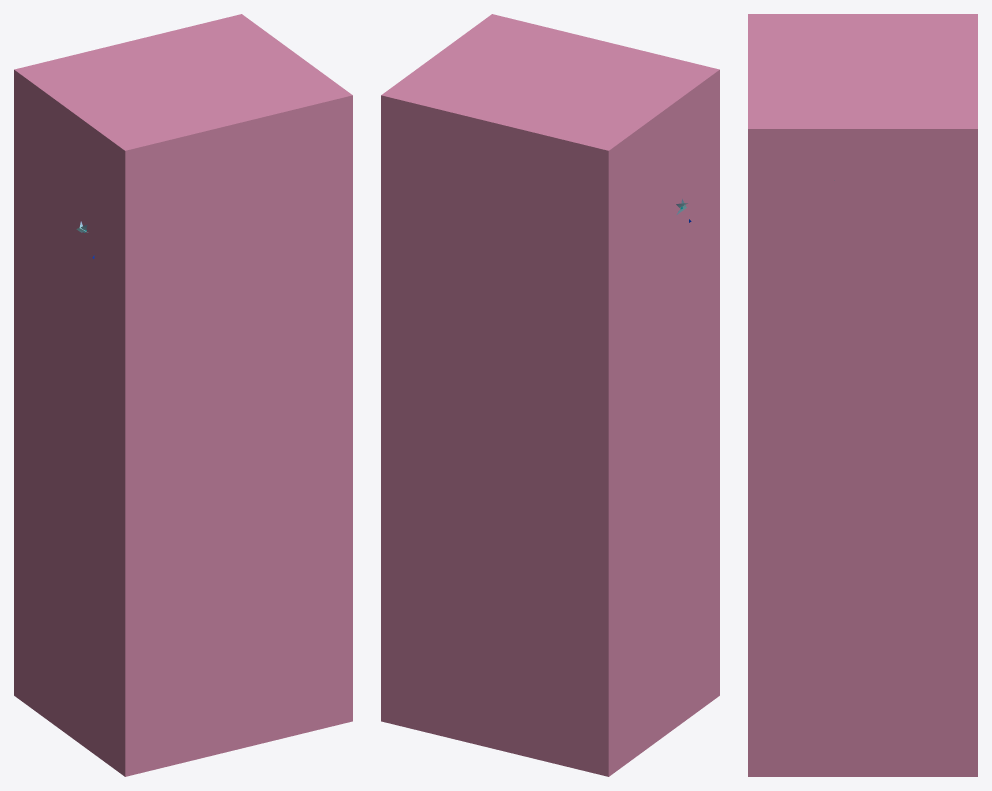
File: tree_beech_forest_b.dae
The picture shows the model from 3 angles, left to right: view 1: azimuth 30°, elevation 25°; view 2: azimuth 150°, elevation 25°; view 3: azimuth 270°, elevation 25°; orthographic projection. The views are drawn at different scales.
Visible parts, largest first — view 1: Untitled; view 2: Untitled; view 3: Untitled.
Part boxes in pixels (<box>): Untitled: <box>14,14,352,776</box>; Untitled: <box>381,14,719,776</box>; Untitled: <box>748,14,977,776</box>.
Bounding box in the file's own units: 8.58 × 7 × 21.77.
